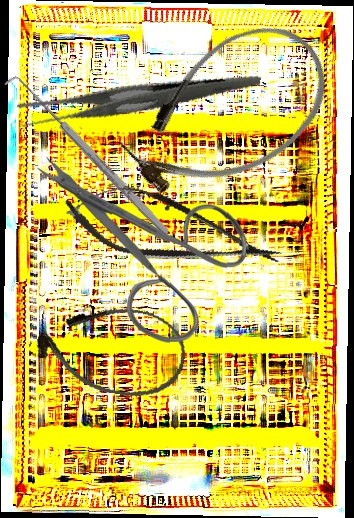Cannula: (102, 1, 352, 225), (30, 292, 192, 406)
Dressing Forceps: (13, 35, 262, 167)
Hook Surgical: (2, 68, 174, 245)
Iris Scissors: (34, 151, 248, 345)
Micro Scissor: (56, 170, 290, 291)
